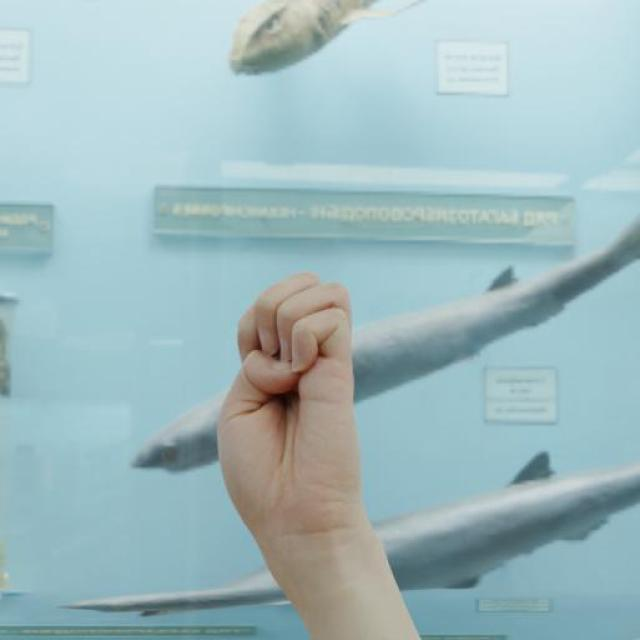E: (212, 269, 367, 530)
